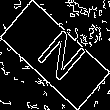N_SW: (25, 23, 85, 87)
